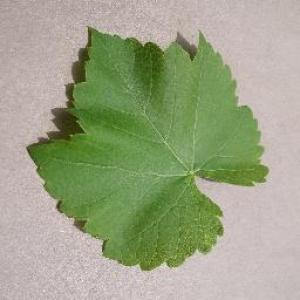Folha: (26, 24, 268, 270)
